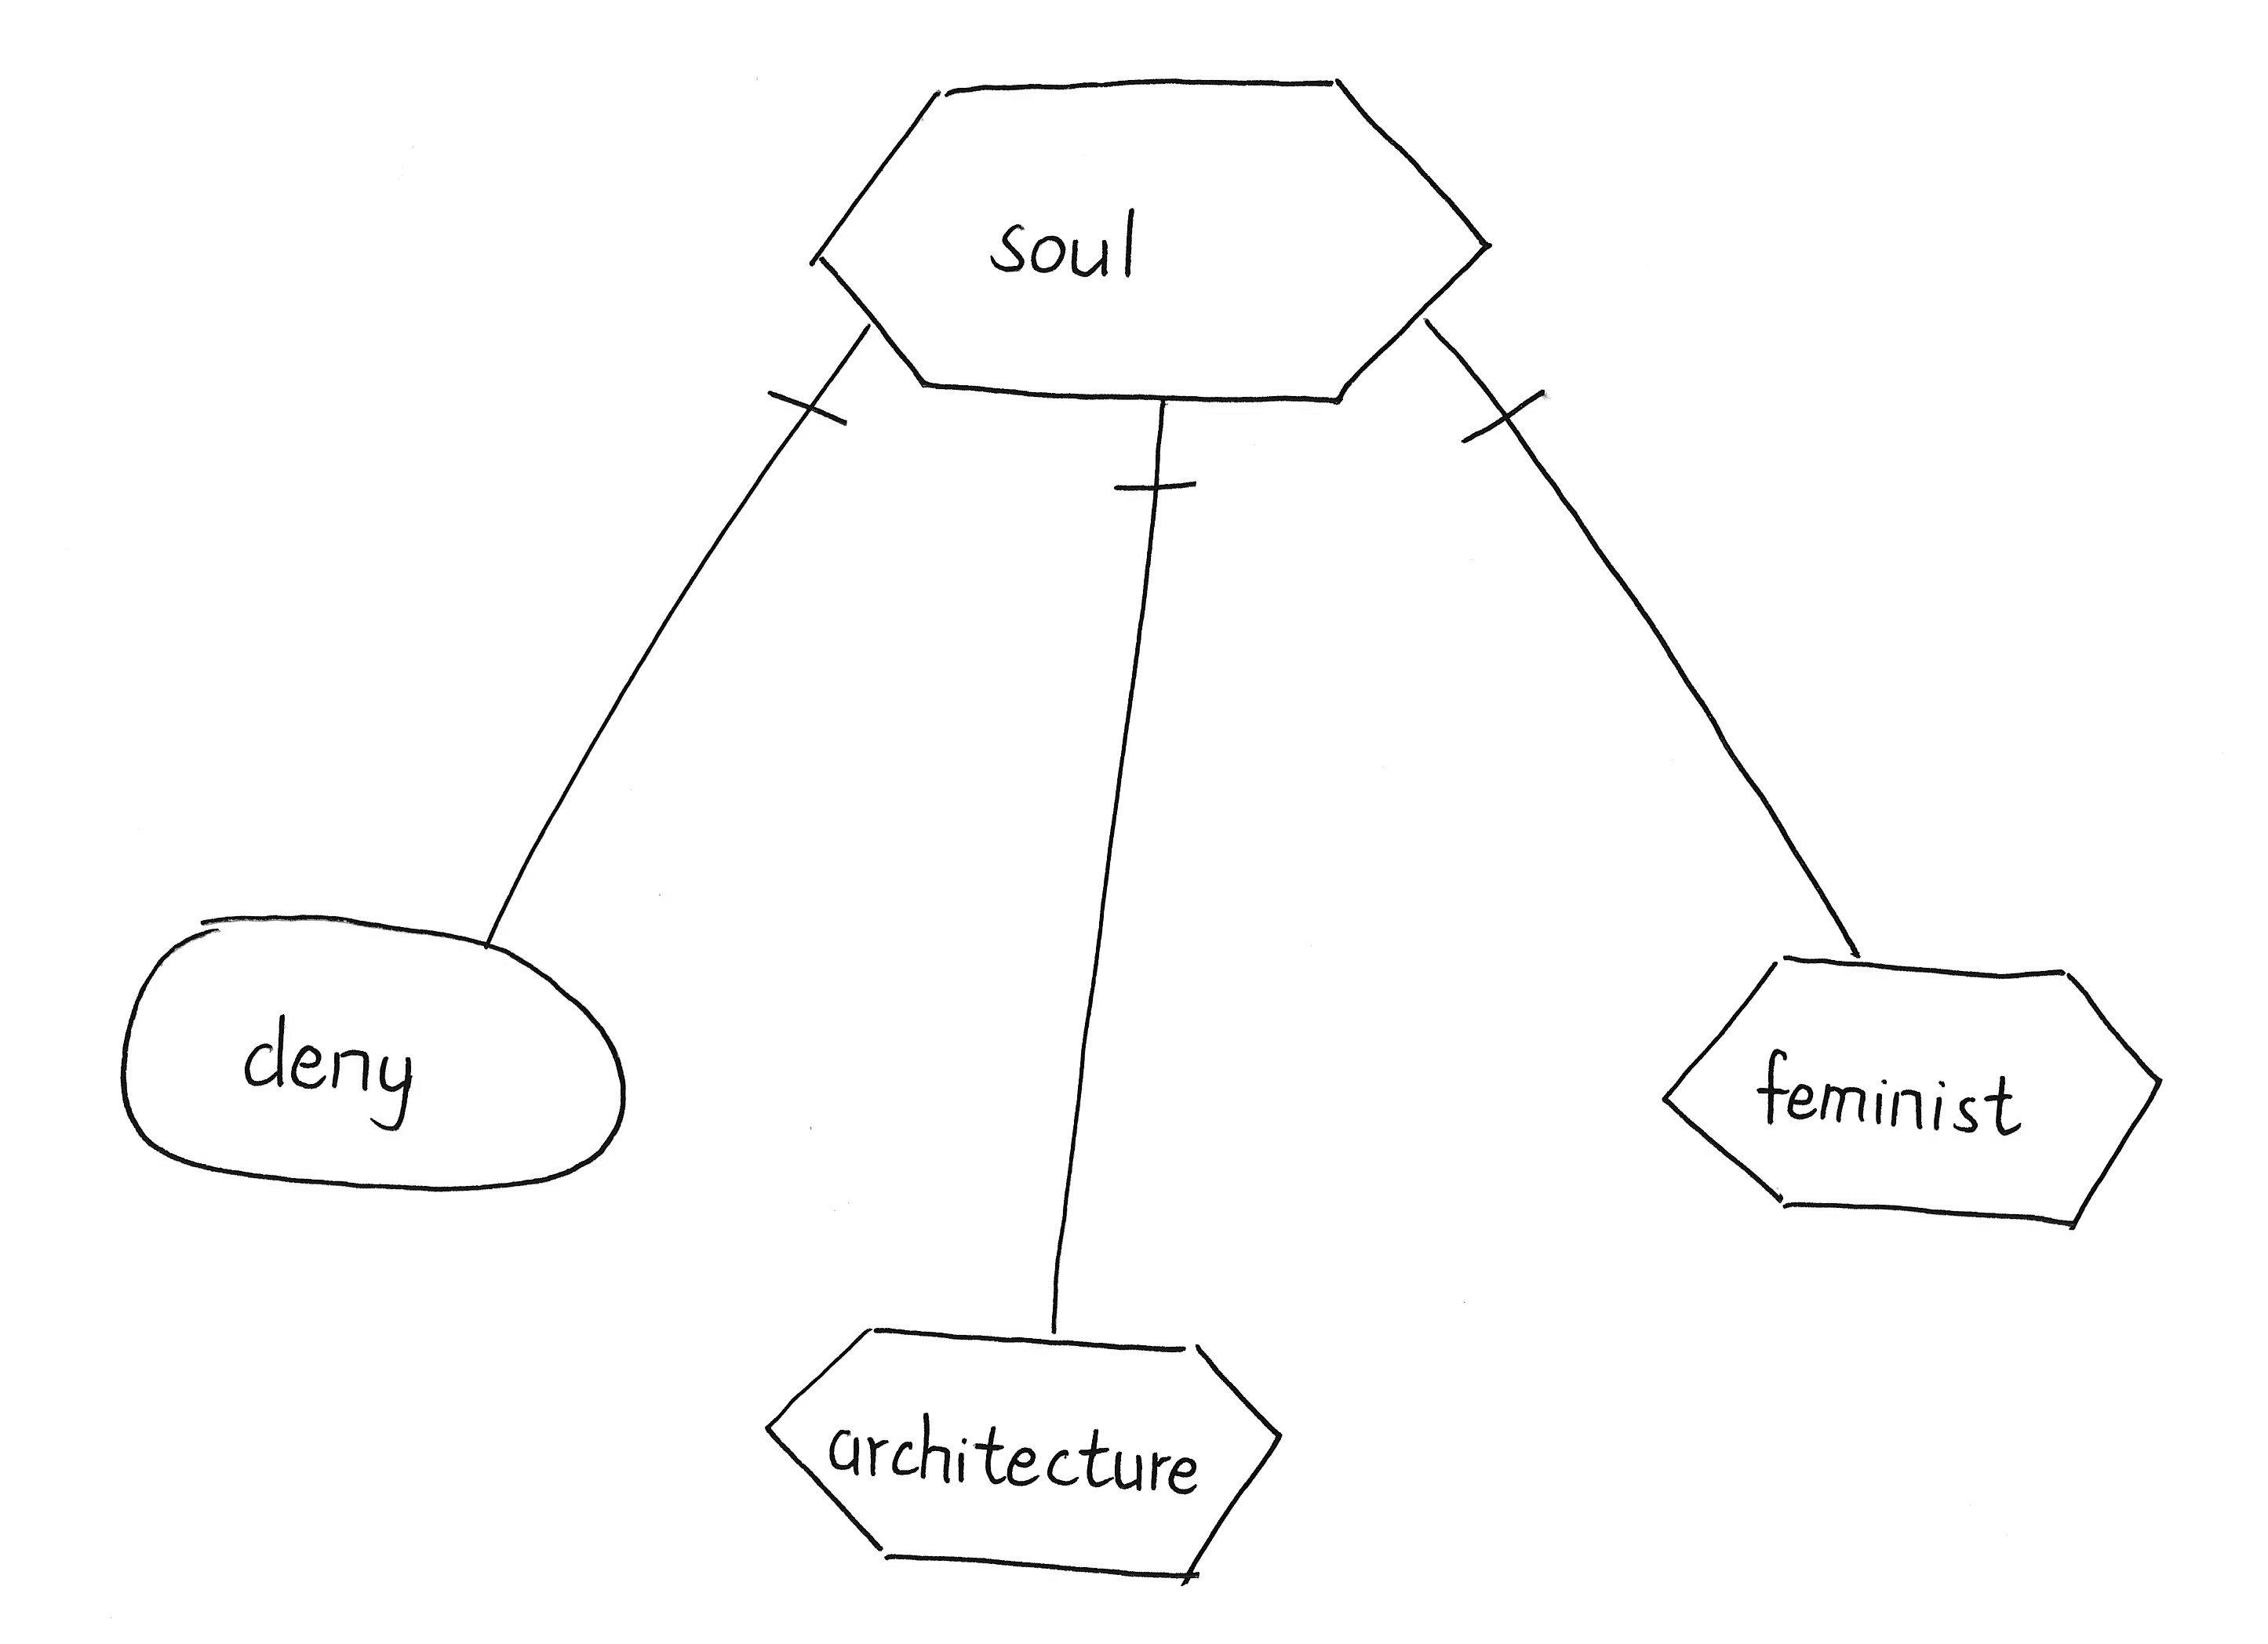and: (1432, 338, 1558, 468), (755, 340, 870, 465), (1095, 421, 1211, 523)
goal: (83, 889, 648, 1207)
task: (792, 37, 1506, 421), (750, 1299, 1301, 1611), (1643, 938, 2194, 1248)
